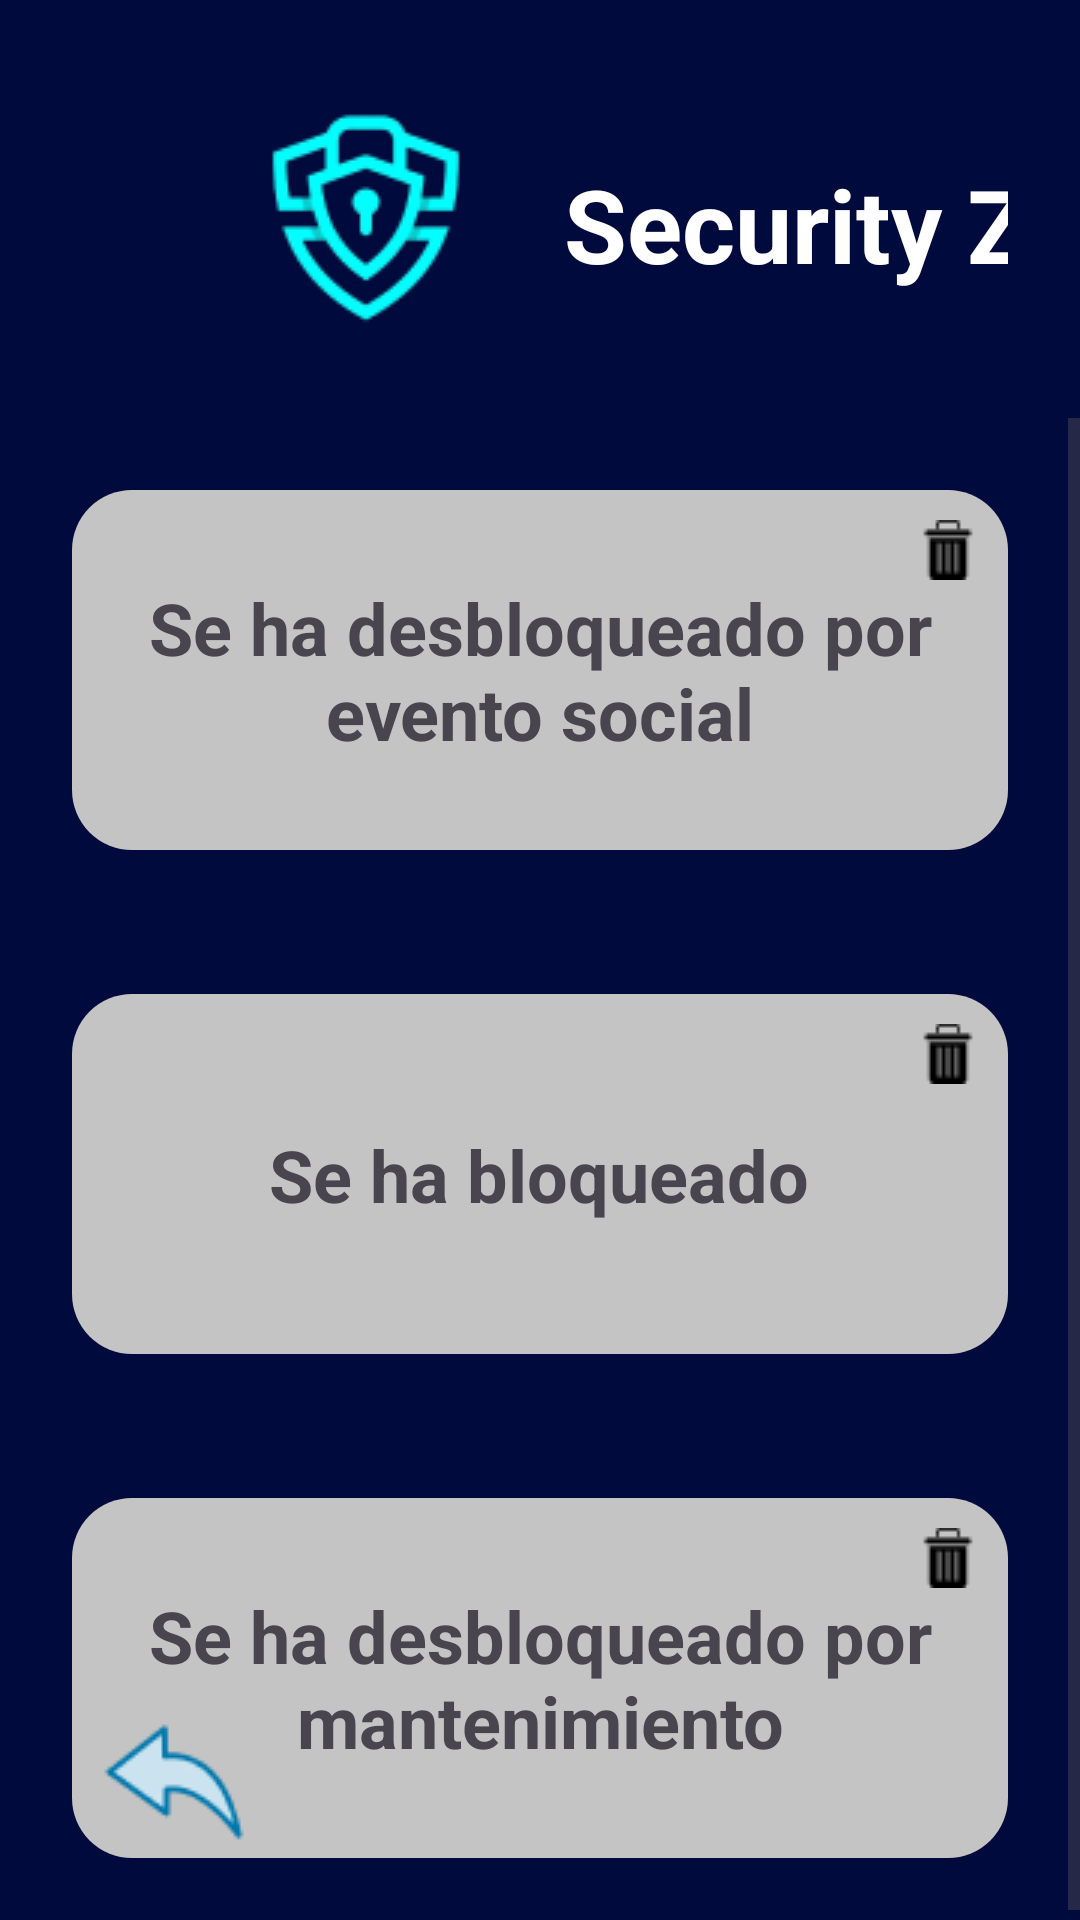

Icon click points for this 1080×1920 phone screenshot, format (x=x, y=y):
atras: (x=174, y=1782)
basura: (x=948, y=550), (x=948, y=1054), (x=948, y=1558)
